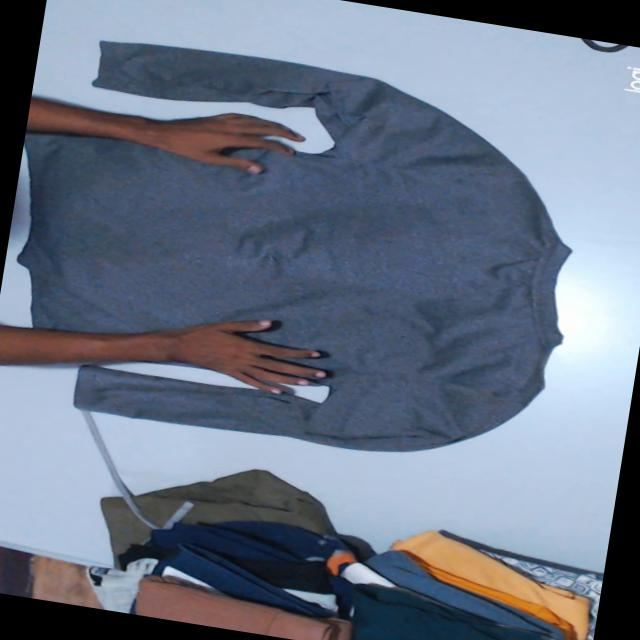new-garment: (19, 41, 569, 451)
